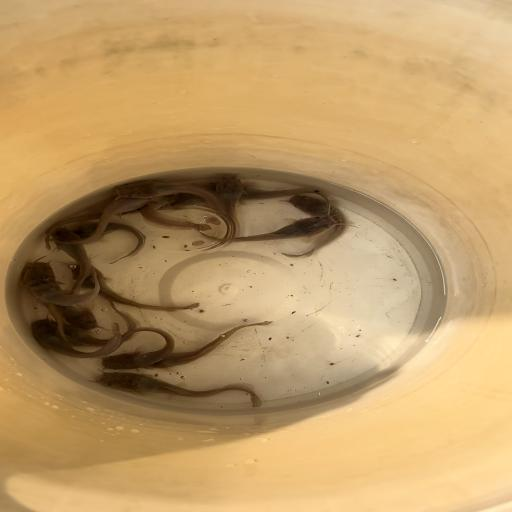lele: (62, 260, 201, 311), (96, 370, 262, 408), (151, 320, 274, 368), (29, 255, 104, 328), (47, 197, 150, 244), (281, 190, 351, 258), (195, 214, 341, 244), (19, 260, 72, 342), (52, 301, 140, 348), (28, 318, 125, 359), (115, 181, 230, 215), (200, 172, 248, 250), (99, 326, 177, 371), (66, 222, 146, 264), (30, 262, 102, 306), (208, 182, 332, 207), (47, 227, 91, 293), (140, 194, 214, 232)
